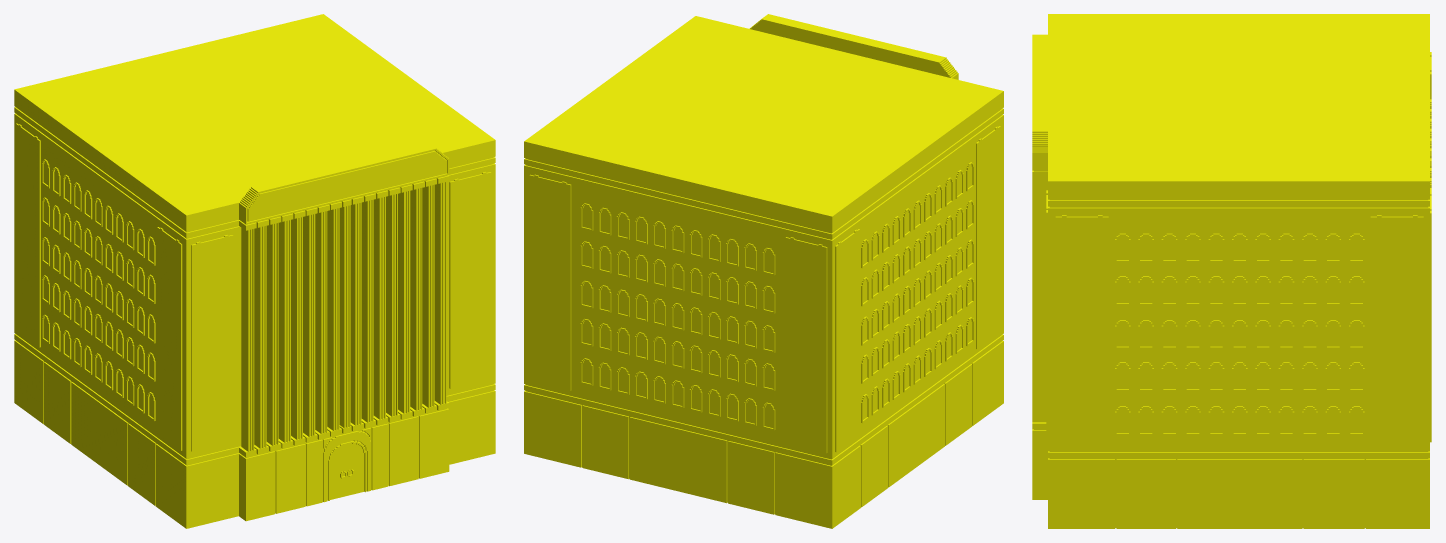
The model's file is voxel-palace-palace.glb.
The picture shows the model from 3 angles, left to right: view 1: azimuth 30°, elevation 25°; view 2: azimuth 150°, elevation 25°; view 3: azimuth 270°, elevation 25°; orthographic projection. The views are drawn at different scales.
Visible parts, largest first — view 1: VS_Palace_Palace; view 2: VS_Palace_Palace; view 3: VS_Palace_Palace.
Part boxes in pixels (x1,y1,x2,y2): VS_Palace_Palace: (14, 14, 495, 528); VS_Palace_Palace: (524, 14, 1003, 528); VS_Palace_Palace: (1032, 14, 1431, 528).
Bounding box in the file's own units: 25.6 × 25.6 × 25.6.
